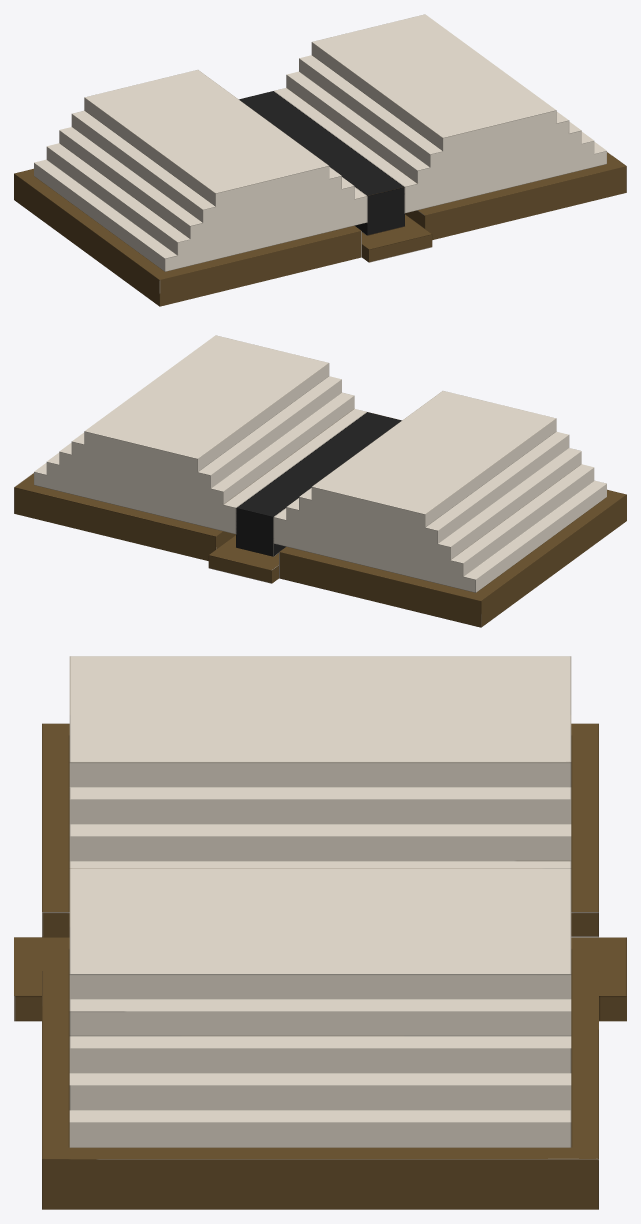
File: Openbook.obj
3 renders of one model, top to bottom at view 1: azimuth 30°, elevation 25°; view 2: azimuth 150°, elevation 25°; view 3: azimuth 270°, elevation 25°, orthographic. The views are drawn at different scales.
Parts seen in each view (by area): view 1: Openbook; view 2: Openbook; view 3: Openbook.
Boxes of the visible parts, x1,y1,x2,y2 form: Openbook: (14, 14, 626, 306); Openbook: (14, 335, 626, 627); Openbook: (14, 656, 626, 1209).
Size of the model in its own units: 3.7 by 0.7 by 2.2.
Materials: 1 (1 with a texture image).
